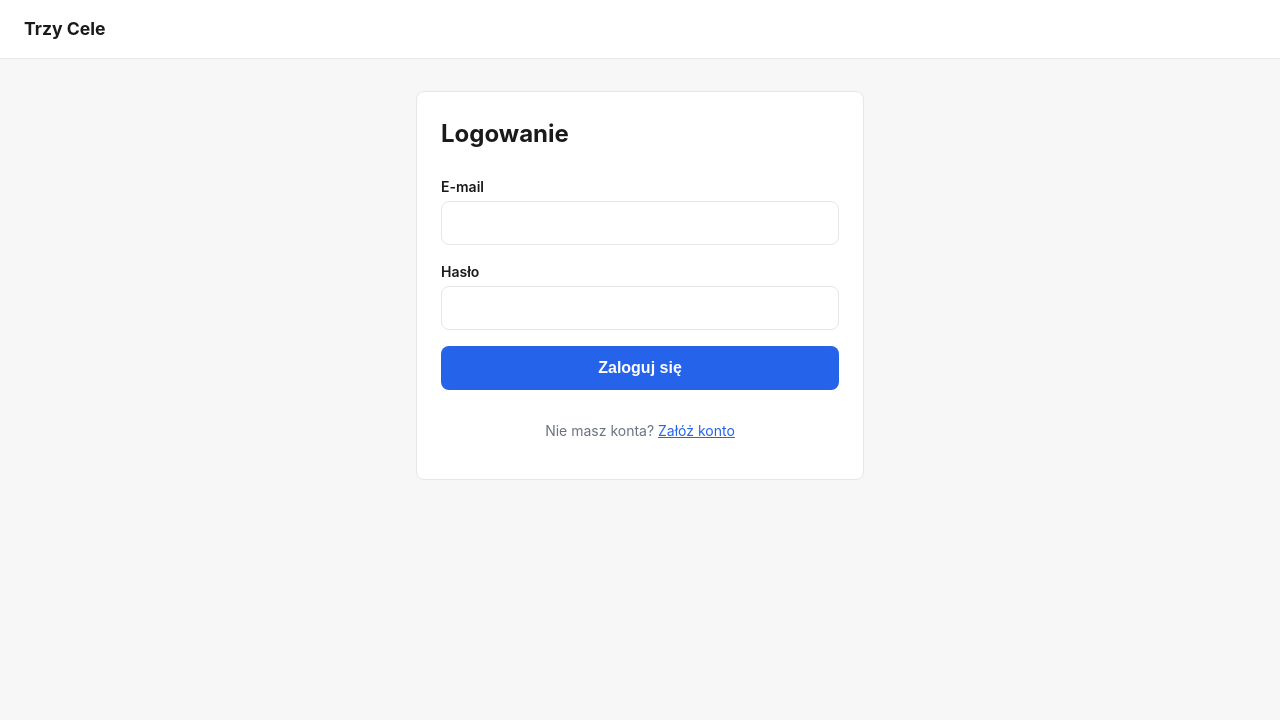
LoginPage › walidacja wejścia: pusty e-mail → komunikat, brak wywołania API
Type "jakieshaslo" into the password field labelled "Hasło".
click(640, 308); type("jakieshaslo")  # box 441,286 -> 839,330
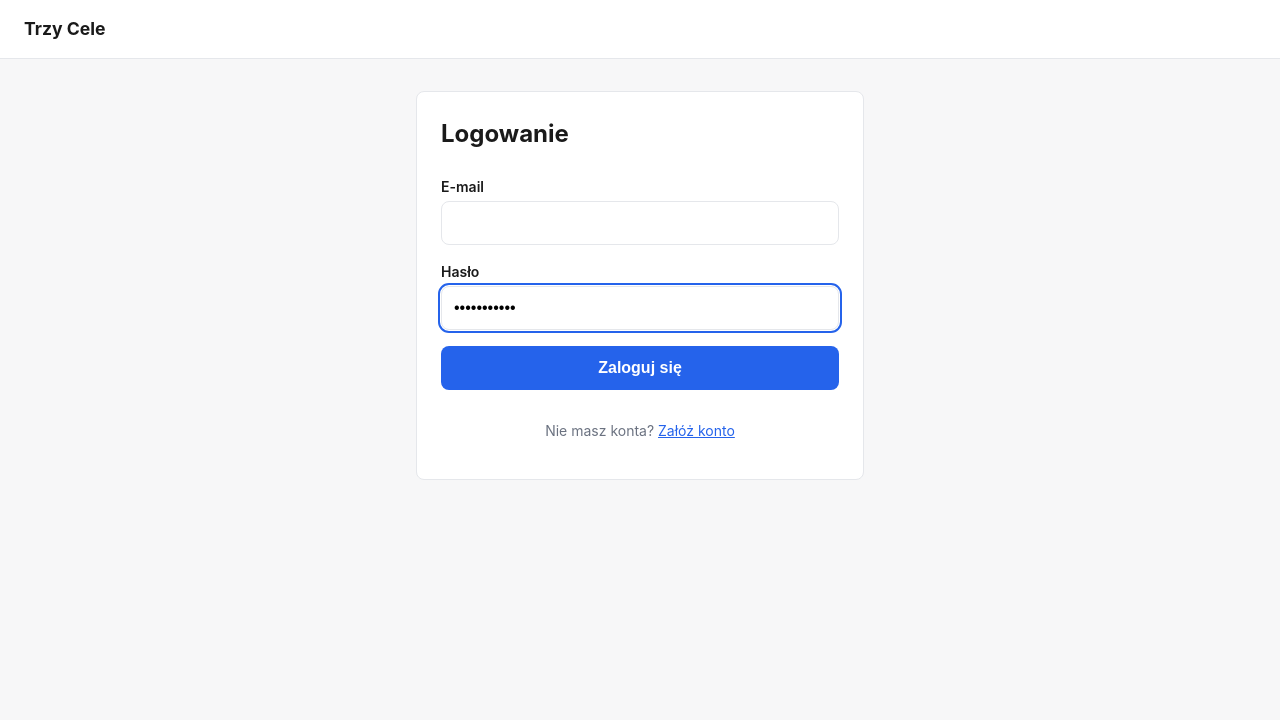
Click the button "Zaloguj się".
click(640, 368)  # box 441,346 -> 839,390
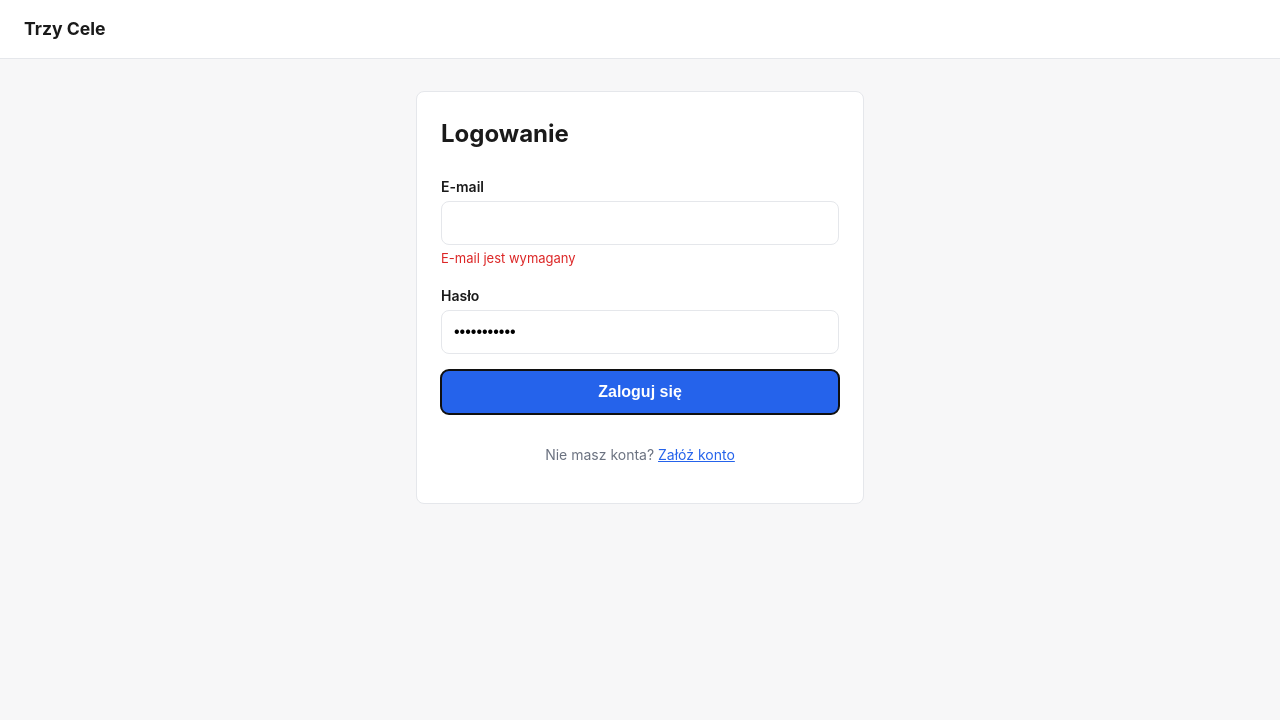
Expected: the text "E-mail jest wymagany" is shown, 441,250 -> 576,266
